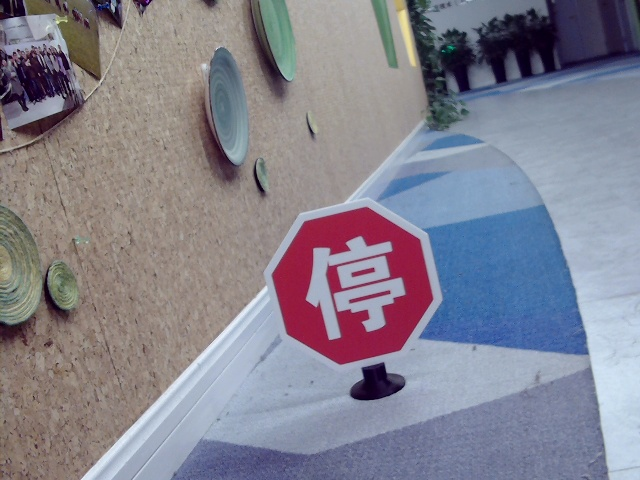stop: (298, 237, 406, 337)
